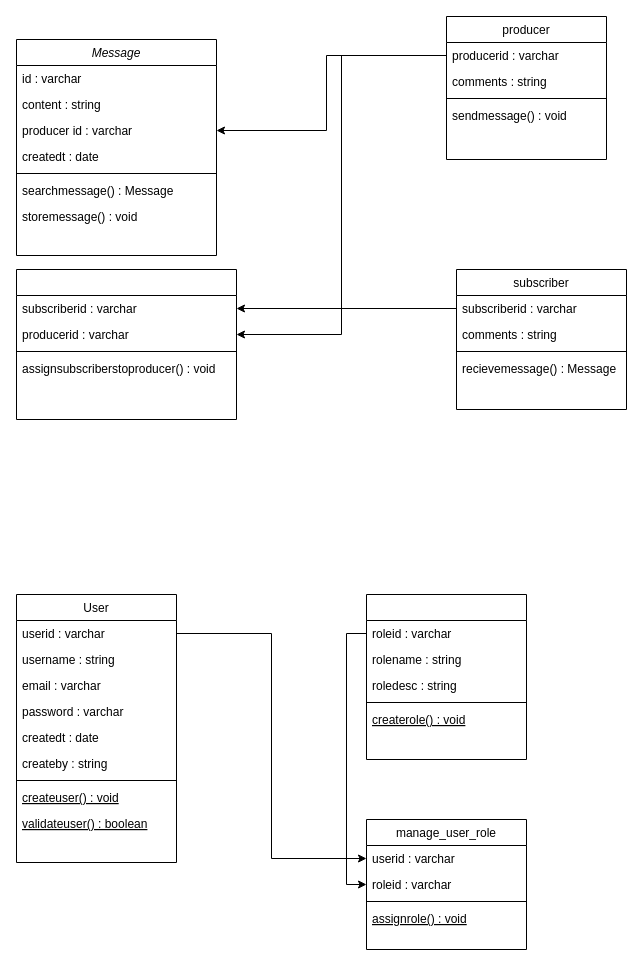
Some shapes in this 643 by 966 pixel diagram are drawn without their labels. Here are the shapes that lost their labels. From the top down, the box of each, then its label:
(16, 268, 236, 420): subscription
(366, 594, 526, 760): roles
